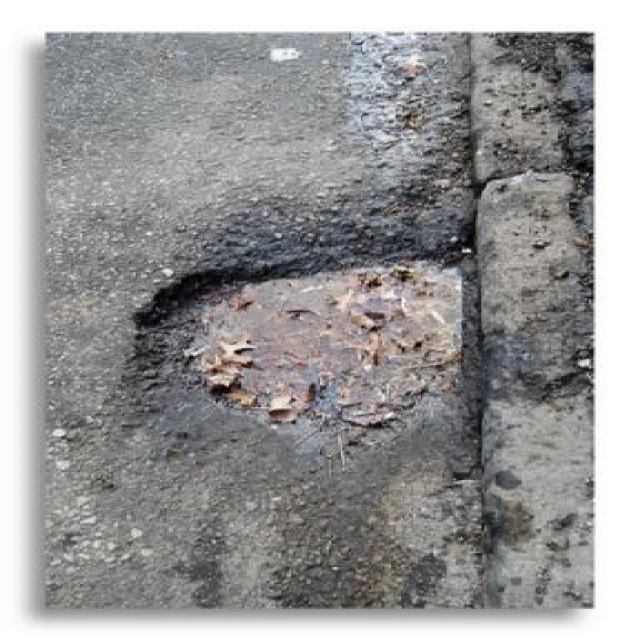pothole: (128, 246, 482, 457)
